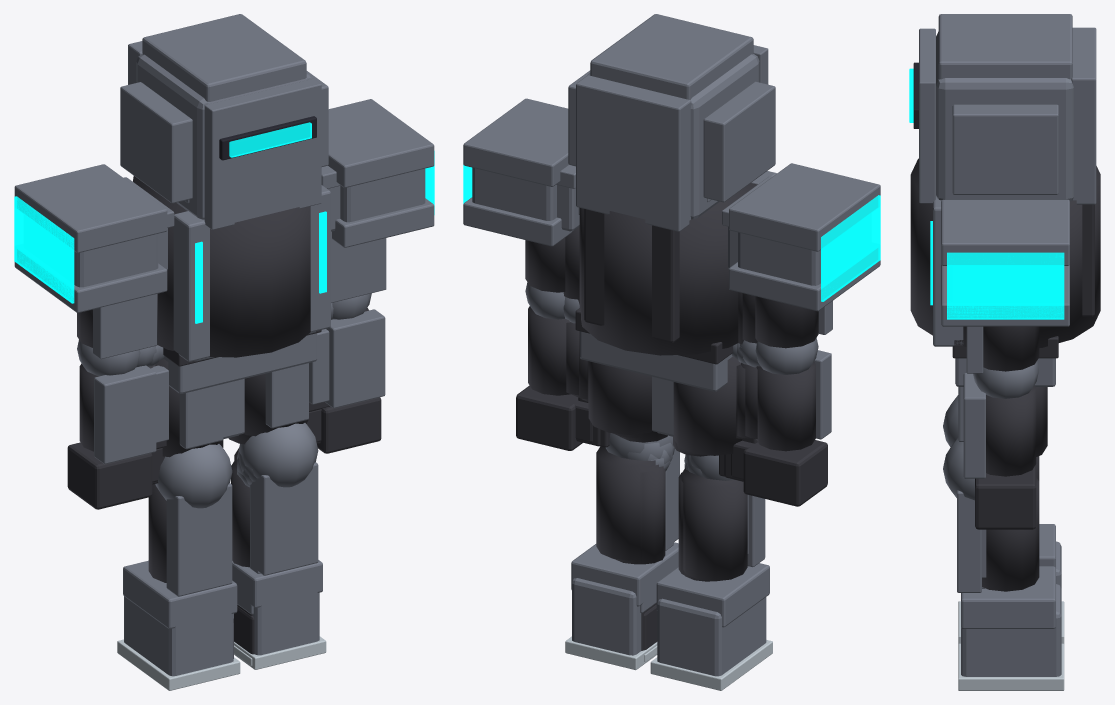
The model's file is player.glb.
The picture shows the model from 3 angles, left to right: view 1: azimuth 30°, elevation 25°; view 2: azimuth 150°, elevation 25°; view 3: azimuth 270°, elevation 25°; orthographic projection.
Parts seen in each view (by area): view 1: torso.002, faceplate, helm_top, pau2_L, cheek_L, chest.003, pau2_R, shinp_L.002, boot_L.003, shinp_R.002, vamb_L.001, vamb_R.001 (+37 smaller); view 2: helm_back.002, torso.002, helm_top, pau2_L, cheek_L, pau2_R, lleg_L.002, boot_L.003, pack, lleg_R.002, farm_L.002, thigh_L.002 (+35 smaller); view 3: cheek_R, helm_top, pau2_R, pvs_R.001, helm_body, torso.002, boot_R.003, helm_back.002, bootheel_R.003, farm_R.002, lleg_R.002, hand_R.002 (+18 smaller).
Part boxes in pixels (x1,y1,x2,y2): torso.002: (133,176,310,357); faceplate: (204,78,321,229); helm_top: (142,14,306,101); pau2_L: (14,164,167,252); cheek_L: (120,82,192,203); chest.003: (173,185,330,361); pau2_R: (328,99,434,187); shinp_L.002: (166,483,232,596); boot_L.003: (124,596,233,676); shinp_R.002: (256,462,318,575); vamb_L.001: (94,365,156,464); vamb_R.001: (325,309,385,408); helm_back.002: (576,75,691,231); torso.002: (579,183,757,355); helm_top: (590,14,753,99); pau2_L: (729,163,880,251); cheek_L: (703,81,775,202); pau2_R: (463,98,568,186); lleg_L.002: (681,468,747,581); boot_L.003: (657,597,766,676); pack: (584,209,679,342); lleg_R.002: (596,446,655,560); farm_L.002: (756,362,815,451); thigh_L.002: (673,357,742,455); cheek_R: (952,104,1058,194); helm_top: (938,14,1072,79); pau2_R: (941,199,1069,265); pvs_R.001: (947,252,1064,319); helm_body: (936,31,1073,201); torso.002: (910,158,1100,347); boot_R.003: (961,584,1061,676); helm_back.002: (1071,27,1096,204); bootheel_R.003: (961,566,1055,628); farm_R.002: (986,385,1036,476); lleg_R.002: (982,477,1039,591); hand_R.002: (975,464,1036,529).
Bounding box in the file's own units: 1.52 × 2.43 × 0.685.
